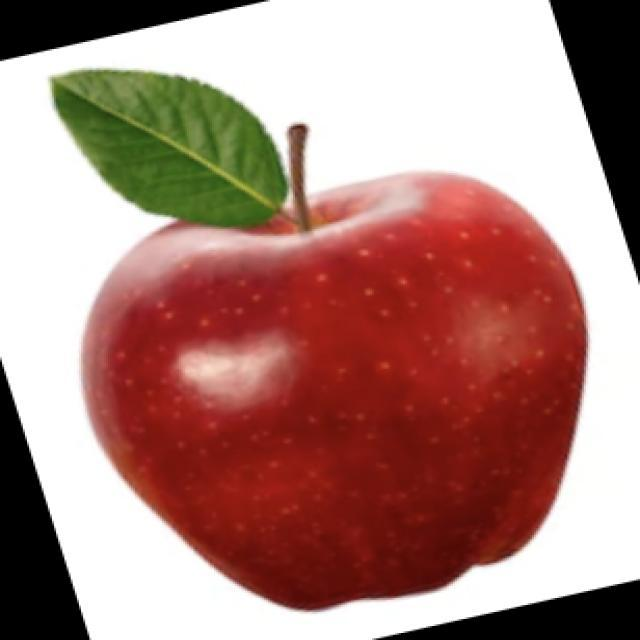Fresh Apple: (71, 187, 582, 600)
